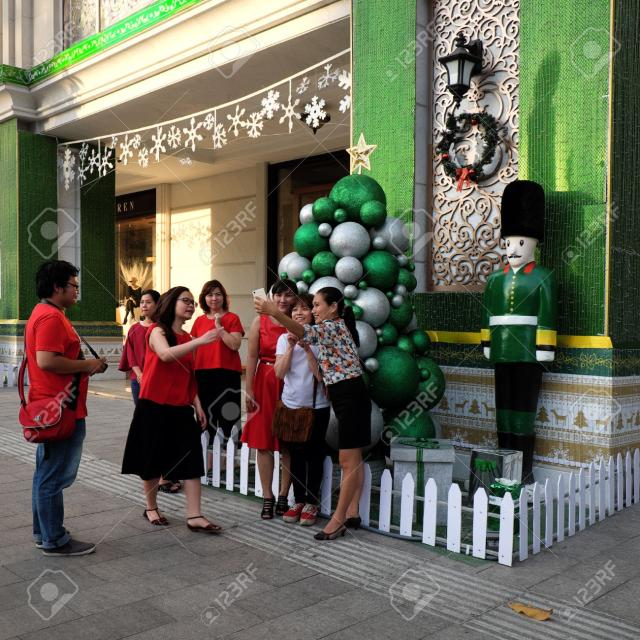body: (250, 284, 376, 543), (15, 256, 112, 560), (119, 283, 232, 534), (474, 173, 560, 491), (268, 289, 334, 529), (244, 278, 301, 519), (186, 278, 246, 477), (116, 288, 162, 407), (121, 271, 144, 329)
